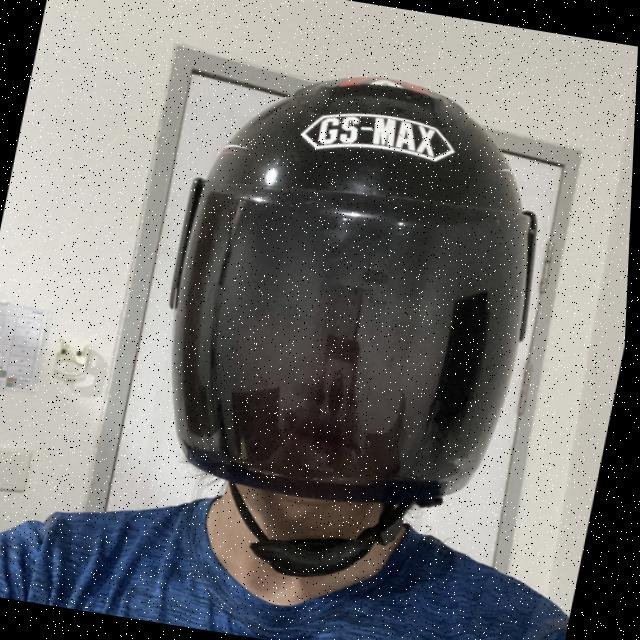helmet: (108, 35, 590, 617)
